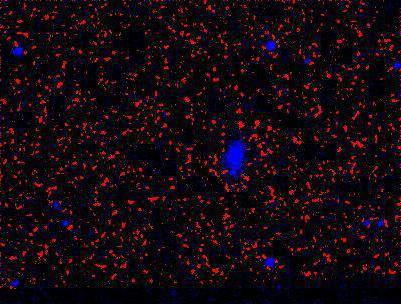star: (216, 159, 246, 189)
